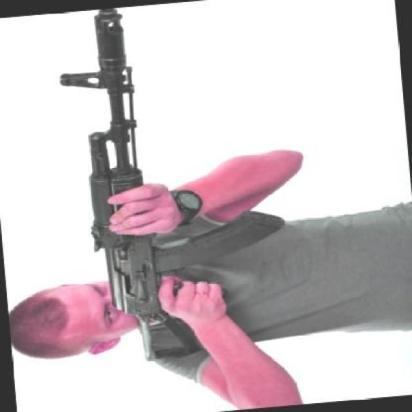Gun: (63, 0, 215, 357)
